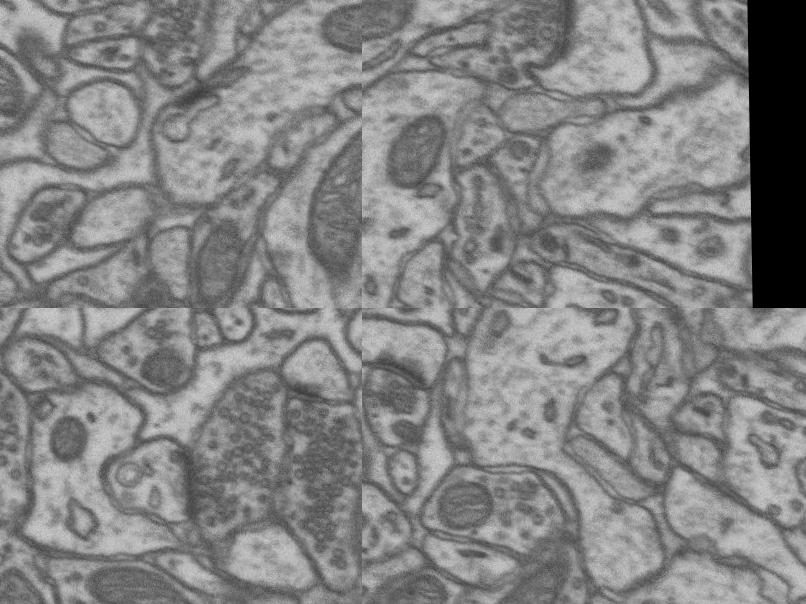mitochondria: (303, 107, 362, 283), (71, 548, 240, 604), (372, 106, 457, 191), (465, 551, 587, 604), (185, 217, 249, 308), (423, 466, 501, 539), (125, 330, 196, 395), (0, 568, 111, 604), (373, 558, 454, 604), (42, 410, 94, 474), (0, 43, 37, 122), (362, 0, 420, 50), (315, 0, 362, 57)
